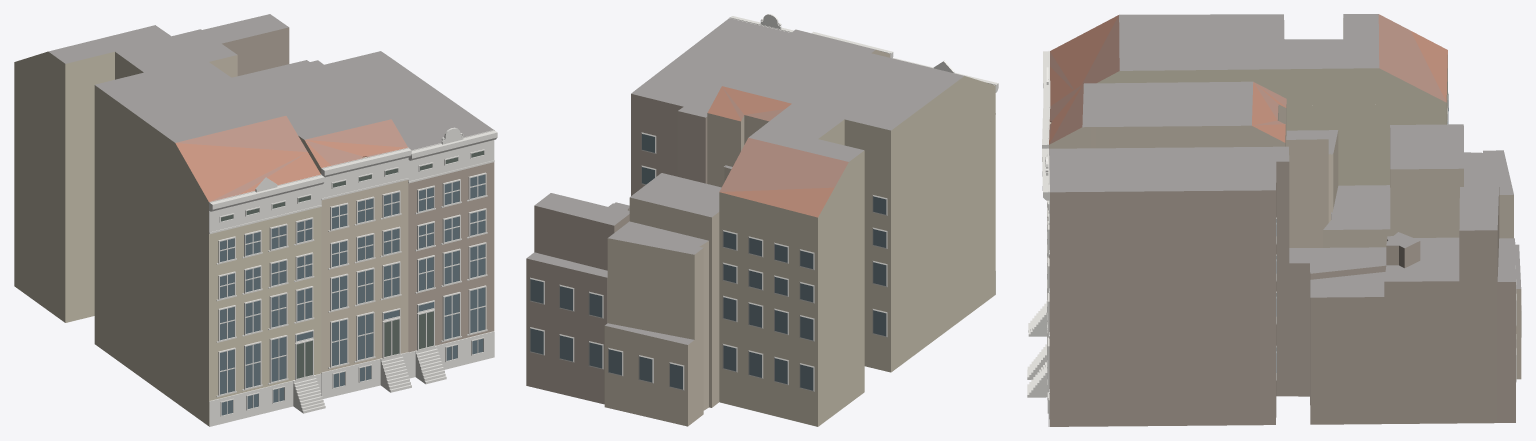
File: chunk-face-herengracht-84-148-r1.glb
3 renders of one model, left to right at view 1: azimuth 30°, elevation 25°; view 2: azimuth 150°, elevation 25°; view 3: azimuth 270°, elevation 25°, orthographic. The views are drawn at different scales.
Visible parts, largest first — view 1: face-herengracht-84-148-r1; view 2: face-herengracht-84-148-r1; view 3: face-herengracht-84-148-r1.
Part boxes in pixels (left/top/right/bottom): face-herengracht-84-148-r1: left=14, top=14, right=497, bottom=426; face-herengracht-84-148-r1: left=526, top=14, right=998, bottom=426; face-herengracht-84-148-r1: left=1027, top=14, right=1521, bottom=426.
Bounding box in the file's own units: 21.99 × 18.94 × 31.67.
